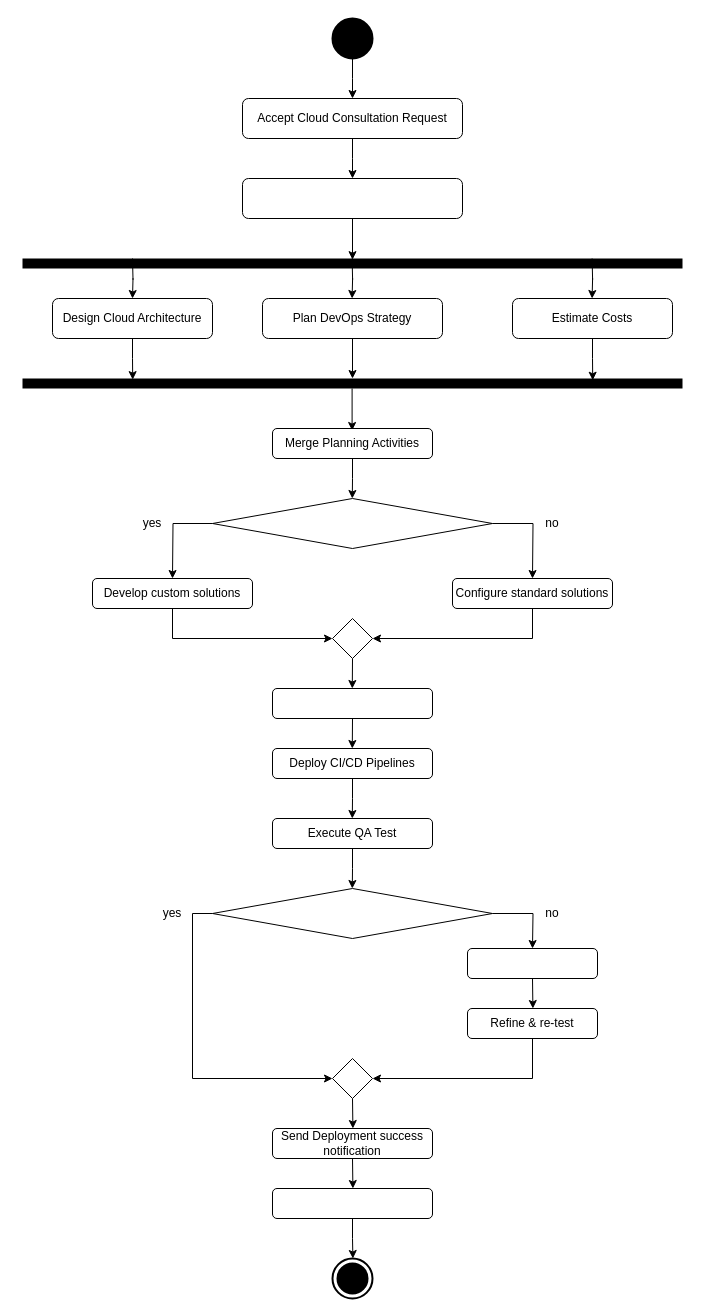
Some shapes in this 704 by 1316 pixel diagram are drawn without their labels. Here are the shapes that lost their labels. From the top down, the centre of each, then its label:
At point 352,198: "Assess Client Request".
At point 352,523: "Solution Required".
At point 352,703: "Implement Cloud Infrastructure".
At point 352,913: "Does Solution meets standards".
At point 532,963: "Identify issue".
At point 352,1203: "Provide Training & Support".
